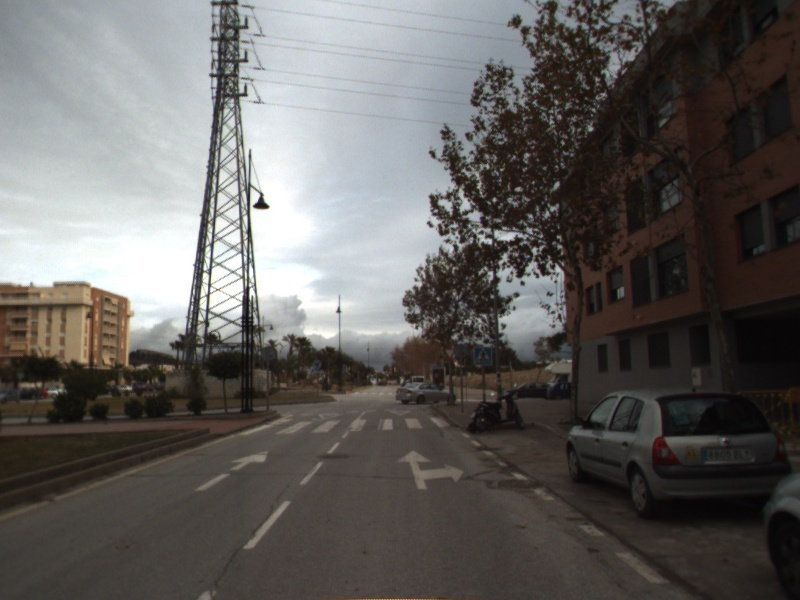STRAIGHT: (193, 448, 271, 493)
STRAIGHT_RIGHT: (394, 449, 466, 491)
